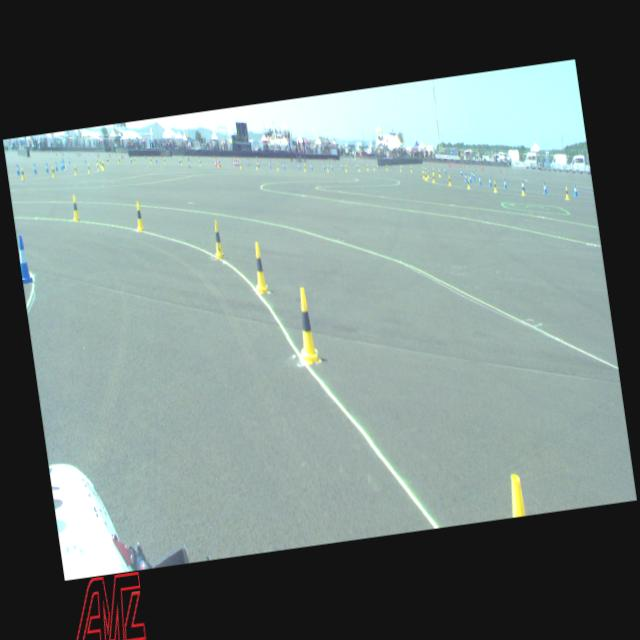blue_cone: (16, 234, 33, 284), (542, 182, 548, 195), (573, 184, 578, 197), (503, 178, 508, 190), (16, 163, 20, 176), (488, 176, 492, 188), (54, 160, 58, 172), (468, 172, 472, 184), (33, 163, 37, 174), (522, 180, 526, 191), (464, 172, 468, 182), (478, 176, 482, 186), (60, 160, 63, 171), (45, 162, 48, 172), (62, 158, 65, 168)
large_orange_cone: (214, 156, 218, 168), (218, 156, 222, 168), (232, 156, 235, 167), (236, 156, 239, 167)
yellow_cone: (290, 286, 322, 366), (248, 240, 270, 296), (507, 473, 526, 518), (210, 219, 226, 259), (134, 200, 146, 232), (70, 194, 82, 222), (520, 183, 526, 196), (492, 180, 498, 192), (20, 168, 26, 180), (564, 187, 569, 200), (51, 165, 56, 178), (73, 164, 78, 176), (466, 178, 471, 188), (448, 175, 452, 186), (86, 163, 90, 174), (438, 169, 442, 178), (96, 163, 100, 172), (424, 172, 428, 181), (432, 174, 435, 183), (422, 170, 425, 179), (102, 162, 105, 170), (426, 170, 429, 178)
